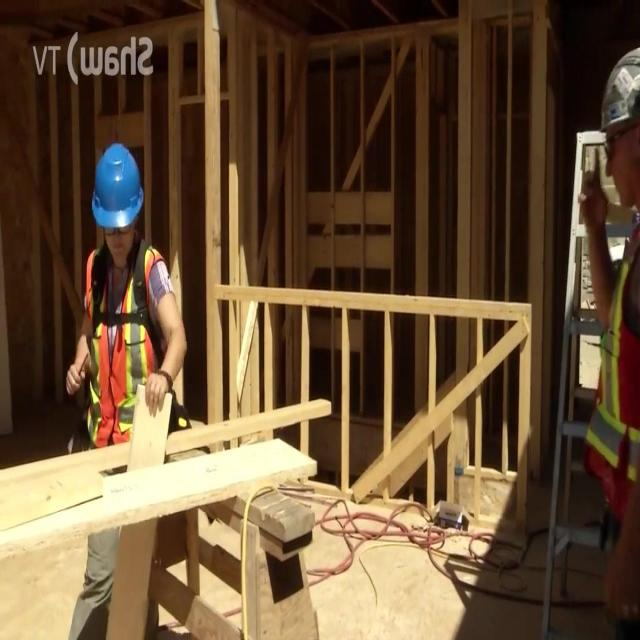Reflective-Jacket: (63, 239, 187, 454), (581, 209, 640, 602)
Safety-Helmet: (577, 34, 639, 164), (84, 129, 150, 242)
